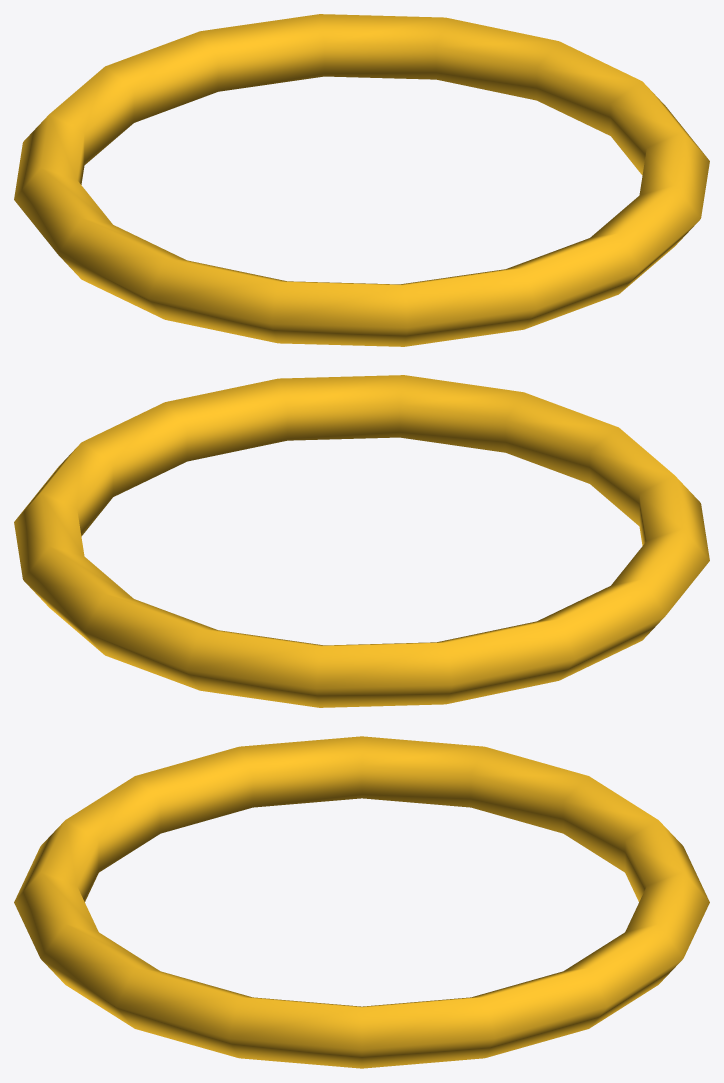
The model's file is ringmesh.fbx.
3 views of the same model, one above another, from view 1: azimuth 30°, elevation 25°; view 2: azimuth 150°, elevation 25°; view 3: azimuth 270°, elevation 25° (orthographic).
Visible parts, largest first — view 1: Object_2; view 2: Object_2; view 3: Object_2.
Part boxes in pixels (x1,y1,x2,y2): Object_2: (14, 14, 709, 346); Object_2: (14, 375, 709, 707); Object_2: (14, 736, 709, 1068).
Bounding box in the file's own units: 207 × 19.99 × 207.
